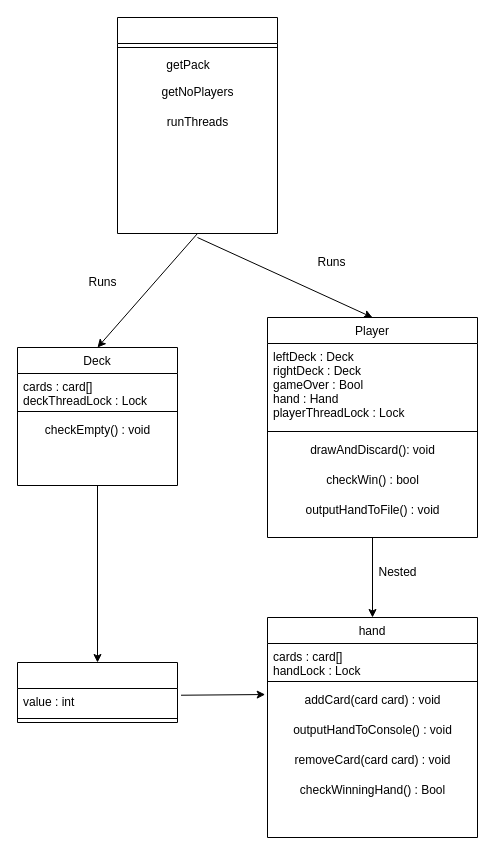
Some shapes in this 495 by 855 pixel diagram are drawn without their labels. Here are the shapes that lost their labels. From the top down, the box of each, then its label:
(116, 16, 278, 234): cardGame
(16, 662, 178, 722): Card
